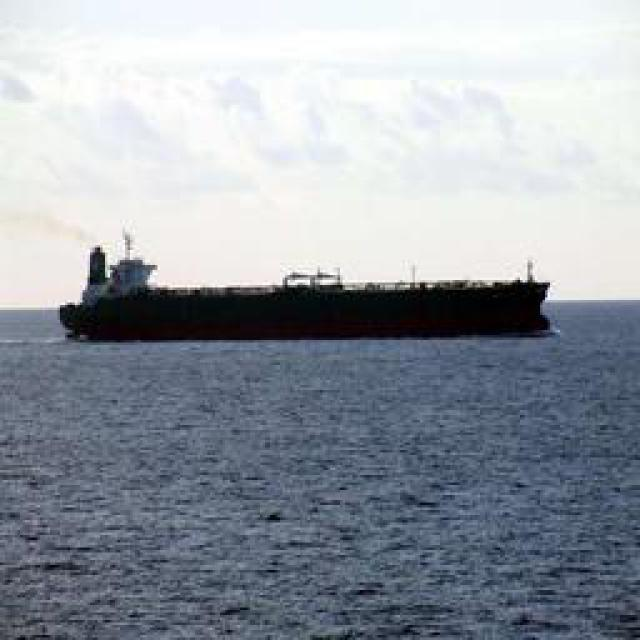Ship: (54, 269, 557, 339)
